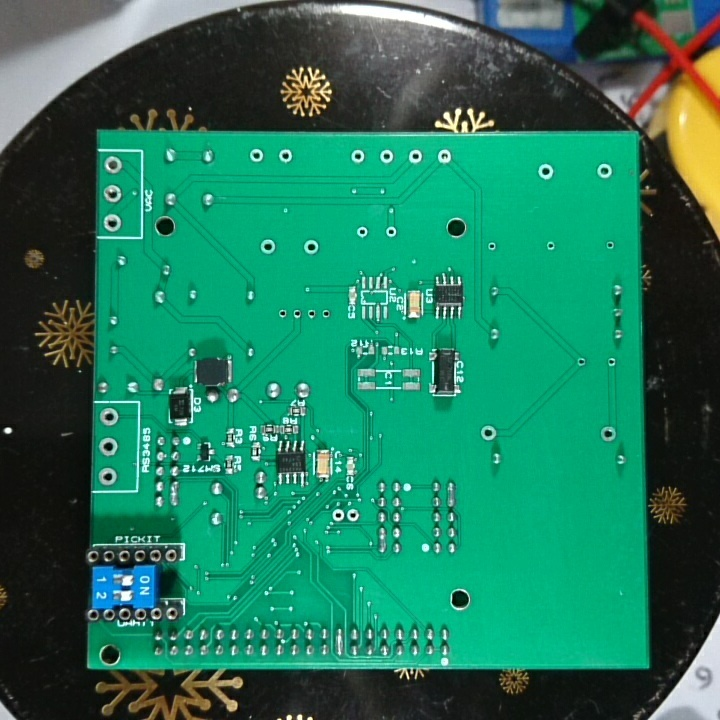F: (99, 405, 122, 431), (97, 437, 121, 460), (102, 212, 124, 236), (97, 464, 118, 488), (599, 422, 619, 447), (102, 183, 123, 206), (103, 155, 124, 178), (247, 145, 267, 168), (257, 236, 277, 258), (479, 422, 498, 444), (405, 146, 424, 168), (349, 146, 367, 169), (536, 162, 556, 182), (596, 160, 614, 182), (301, 238, 321, 257), (436, 146, 453, 168), (276, 147, 295, 166), (378, 147, 396, 167), (382, 223, 400, 241), (303, 306, 319, 326), (346, 504, 360, 526), (330, 505, 346, 524), (604, 355, 620, 373), (355, 223, 370, 241), (575, 353, 589, 372), (603, 238, 618, 255), (289, 307, 304, 324), (486, 238, 499, 257), (544, 238, 557, 255), (276, 306, 289, 323), (320, 306, 332, 324)
P: (333, 623, 346, 658), (167, 480, 180, 509), (445, 480, 458, 508), (376, 523, 387, 556)
